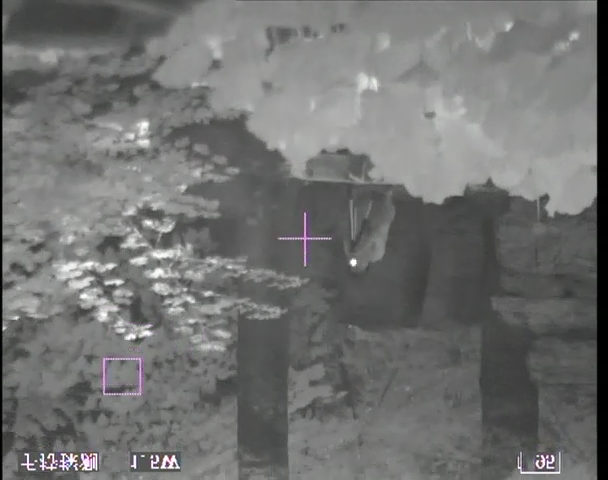my: (348, 257, 358, 268)
